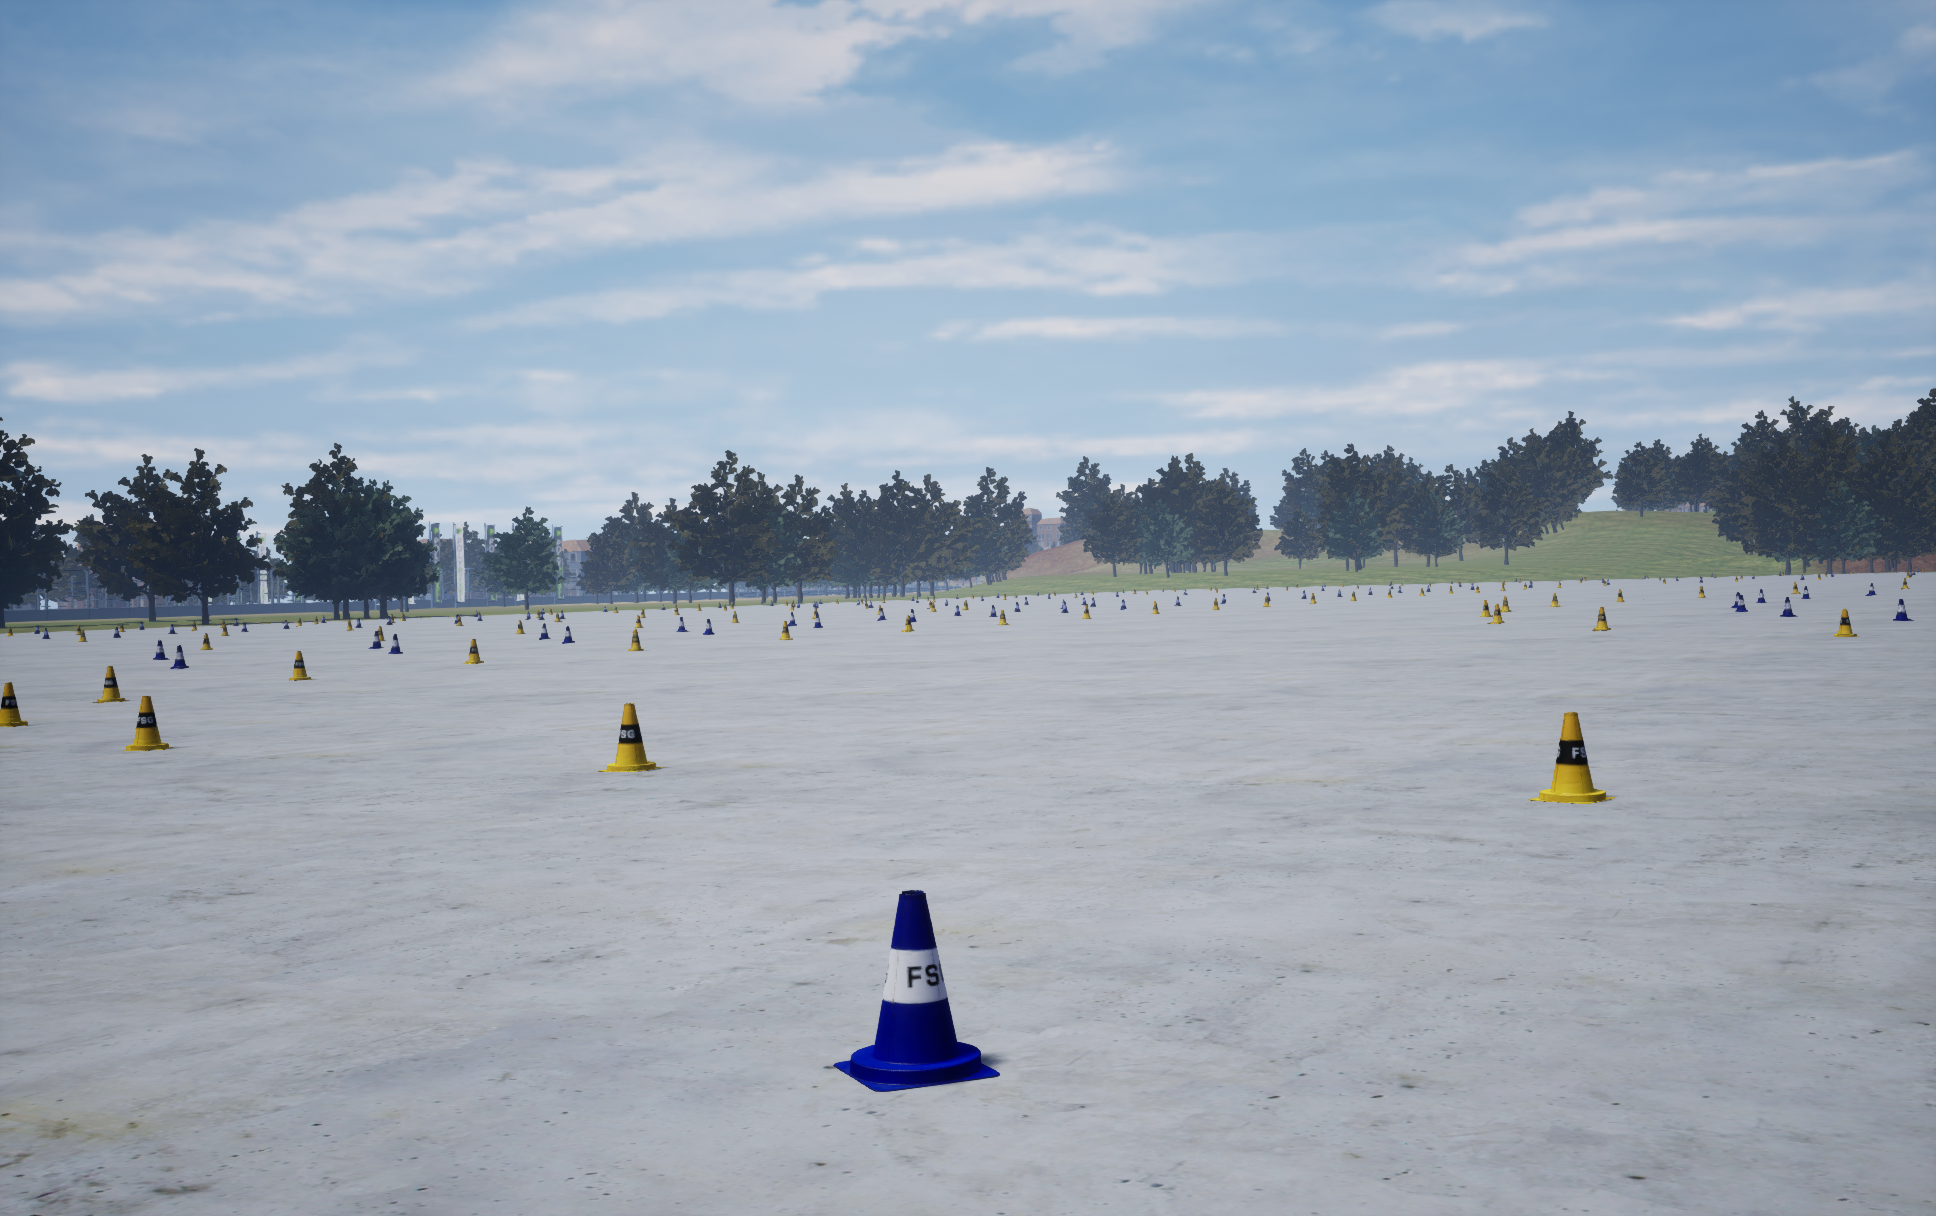blue: (1528, 712, 1614, 803), (598, 703, 664, 771), (122, 696, 172, 749), (92, 665, 129, 702), (0, 682, 27, 726), (289, 651, 312, 679), (1834, 609, 1856, 636), (464, 639, 483, 663), (1591, 607, 1610, 630), (1486, 604, 1505, 623), (628, 629, 643, 650), (779, 621, 791, 639)
yellow: (834, 890, 999, 1091), (1893, 600, 1914, 621), (170, 644, 188, 668), (1781, 597, 1797, 616), (153, 640, 170, 658), (388, 635, 402, 653)
